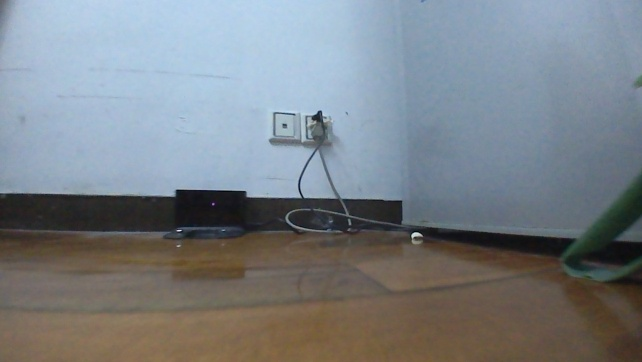charger: (160, 186, 250, 242)
wire: (246, 110, 431, 234)
